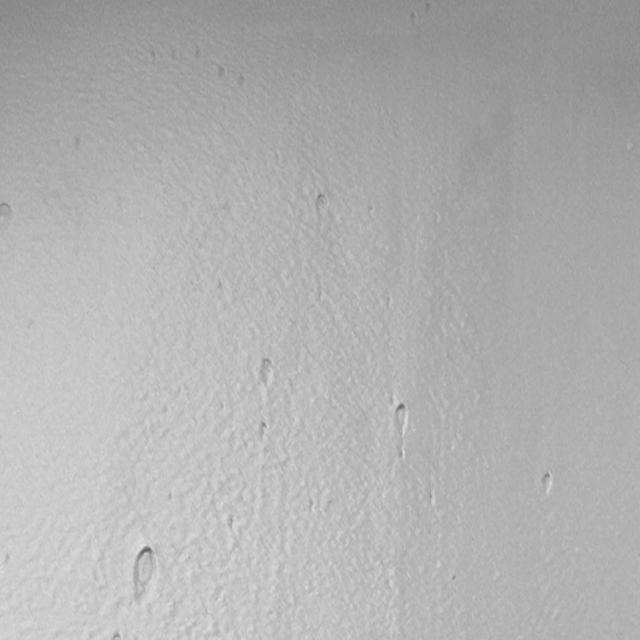pin holes: (126, 543, 162, 601), (256, 355, 278, 389), (390, 403, 411, 433), (538, 470, 556, 496), (0, 202, 16, 226), (255, 420, 271, 443), (422, 0, 437, 19), (314, 192, 328, 212), (235, 75, 248, 93), (217, 64, 230, 81), (409, 11, 419, 32), (74, 134, 84, 154)
